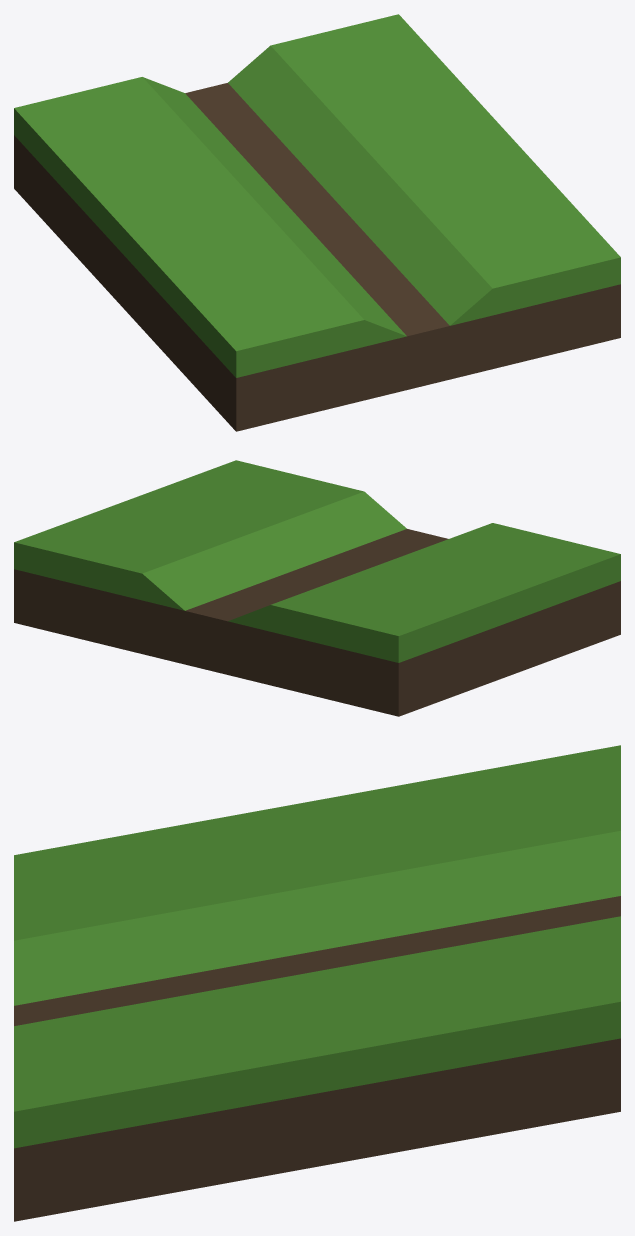
Rendered from tiles_tile-river-basin-hill.fbx.
The picture shows the model from 3 angles, top to bottom: view 1: azimuth 30°, elevation 25°; view 2: azimuth 150°, elevation 25°; view 3: azimuth 270°, elevation 25°; orthographic projection. The views are drawn at different scales.
Visible parts, largest first — view 1: tiles_tile_river_basin_hill; view 2: tiles_tile_river_basin_hill; view 3: tiles_tile_river_basin_hill.
Boxes of the visible parts, x1,y1,x2,y2 form: tiles_tile_river_basin_hill: (14, 14, 620, 431); tiles_tile_river_basin_hill: (14, 460, 620, 716); tiles_tile_river_basin_hill: (14, 745, 620, 1221).
Size of the model in its own units: 200 by 80 by 200.
